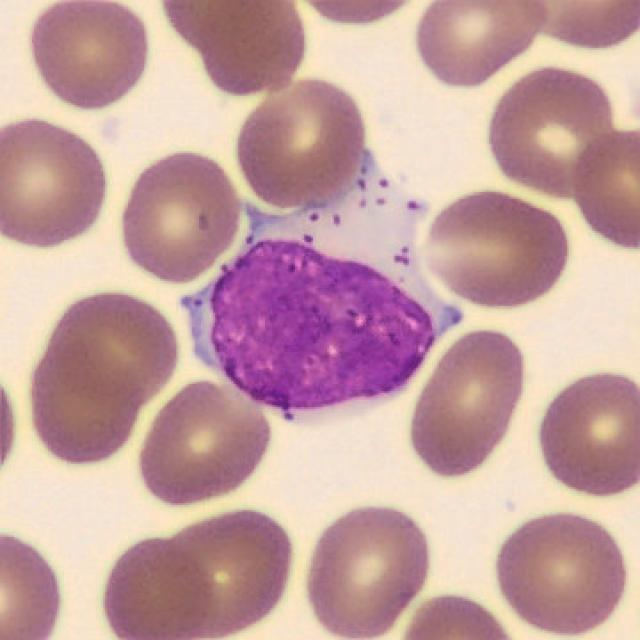Linfocito atipico: (181, 171, 464, 409)
